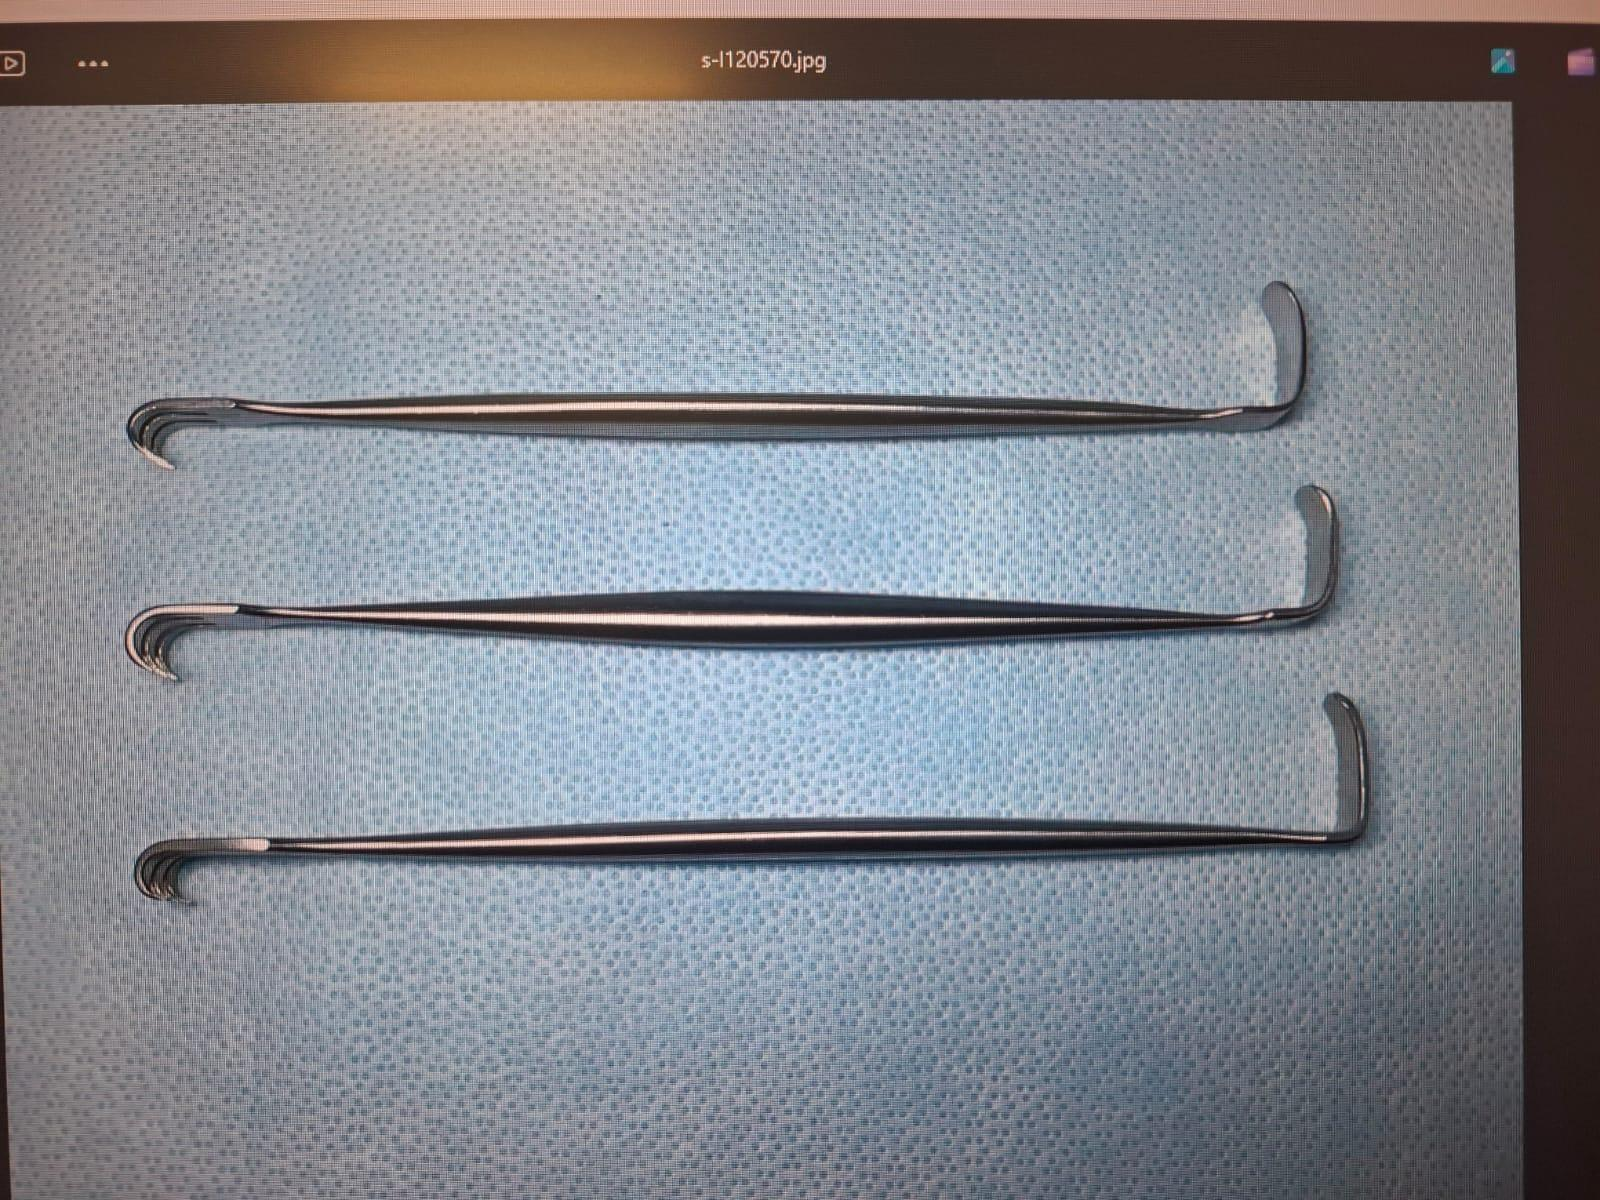Senn Retractor: (116, 678, 1380, 926), (120, 256, 1318, 505), (113, 470, 1338, 713)
